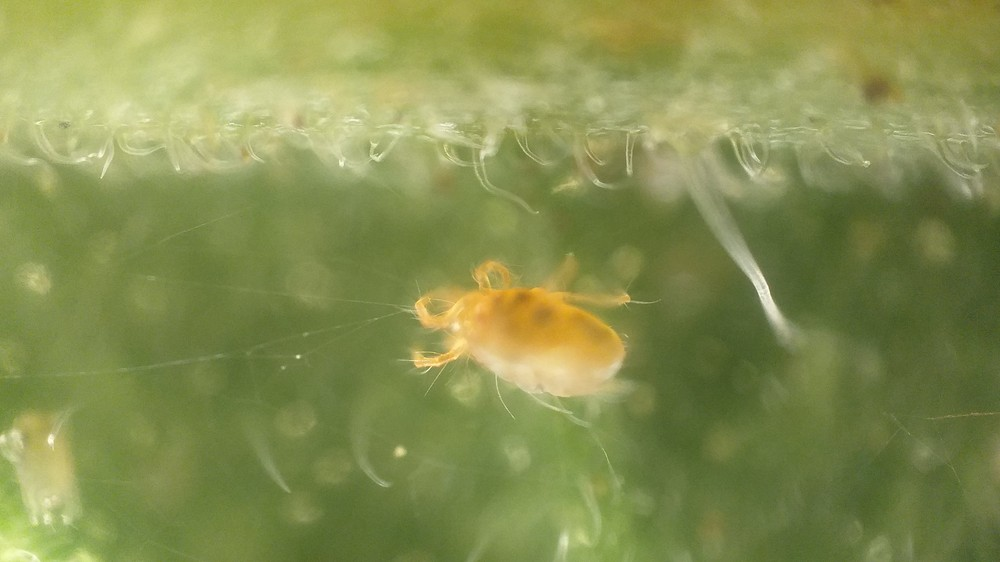Aracnido Rojo: (394, 236, 679, 454)
